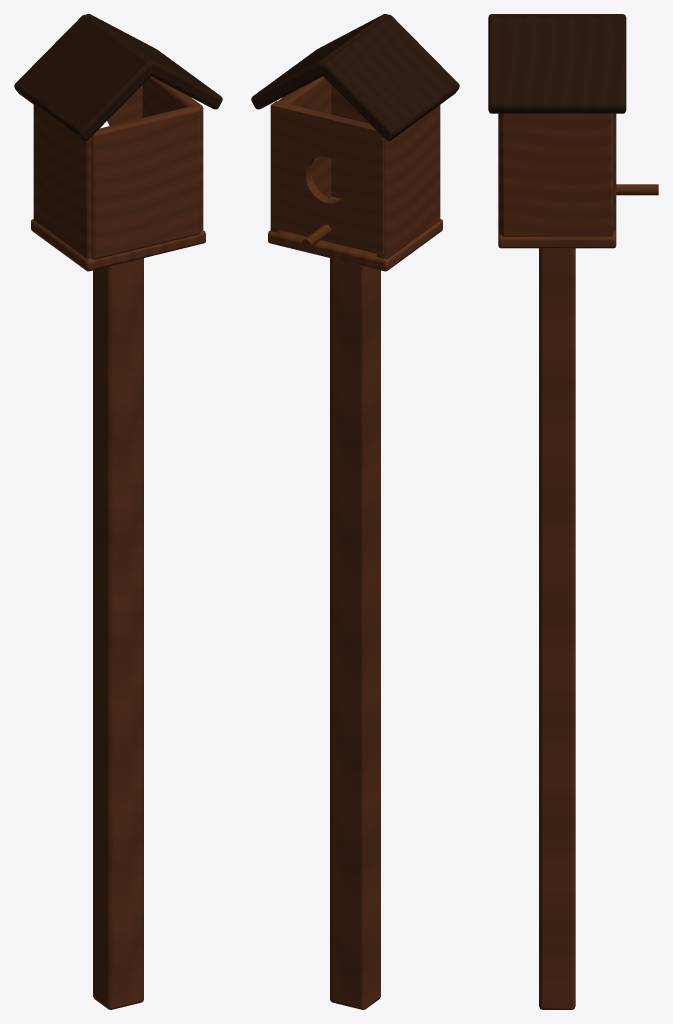
The model's file is Birdhouse.gltf.
3 renders of one model, left to right at view 1: azimuth 30°, elevation 25°; view 2: azimuth 150°, elevation 25°; view 3: azimuth 270°, elevation 25°, orthographic. The views are drawn at different scales.
Visible parts, largest first — view 1: Birdhouse__Body; view 2: Birdhouse__Body; view 3: Birdhouse__Body.
Boxes of the visible parts, left/top/right/bottom form: Birdhouse__Body: left=14, top=14, right=222, bottom=1009; Birdhouse__Body: left=251, top=14, right=459, bottom=1009; Birdhouse__Body: left=488, top=14, right=658, bottom=1009.
Bounding box in the file's own units: 0.28 × 1.79 × 0.28.
Materials: 1 (1 with a texture image).
